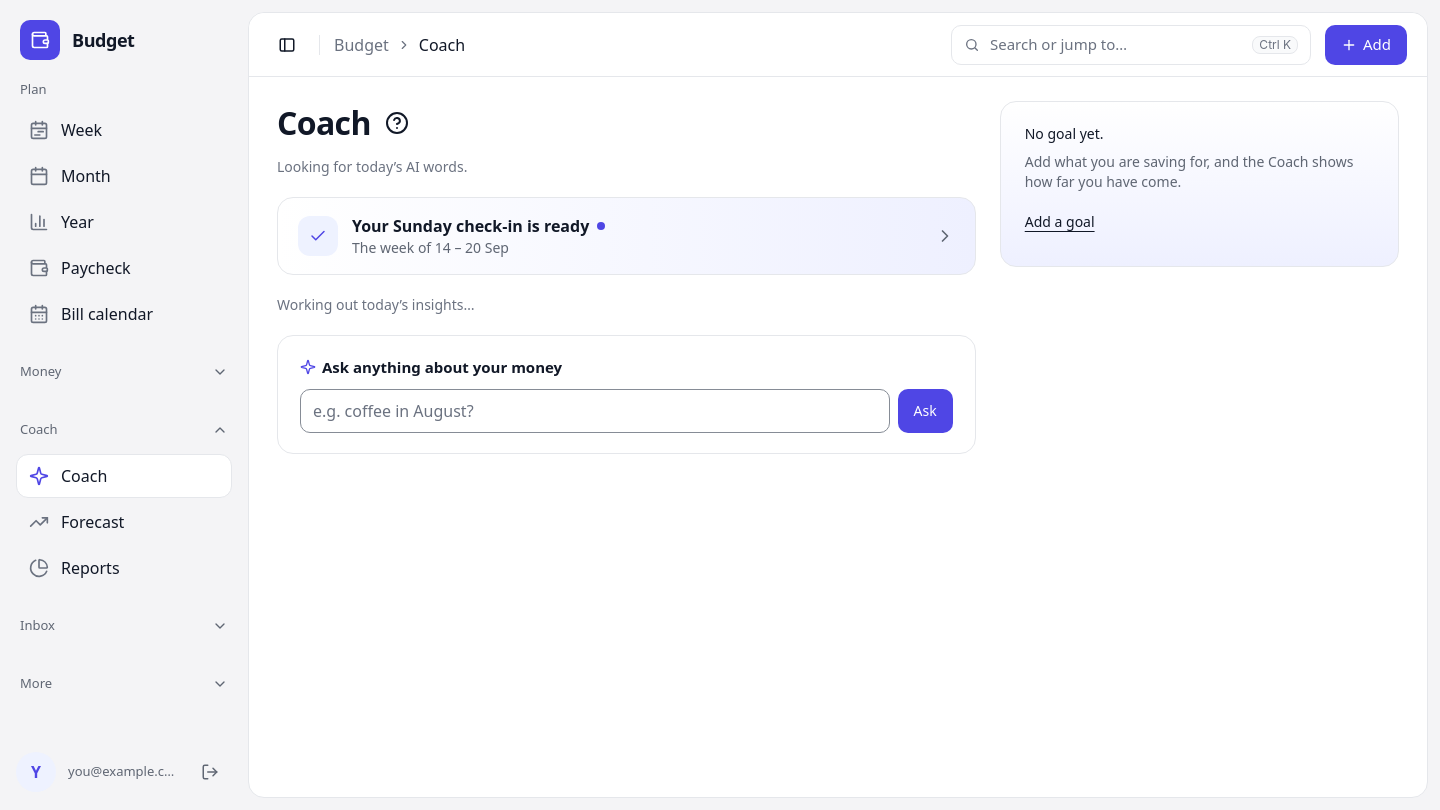
Test: the ? beside every screen’s title › on /coach opens its article in a sheet, with Show me for the whole of it
The width and height of the screenshot is (1440, 810).
Expected: the heading "Coach" is shown, [277, 103, 371, 143]
Click the button named "Help with this screen" at (397, 123), box [375, 101, 419, 145]
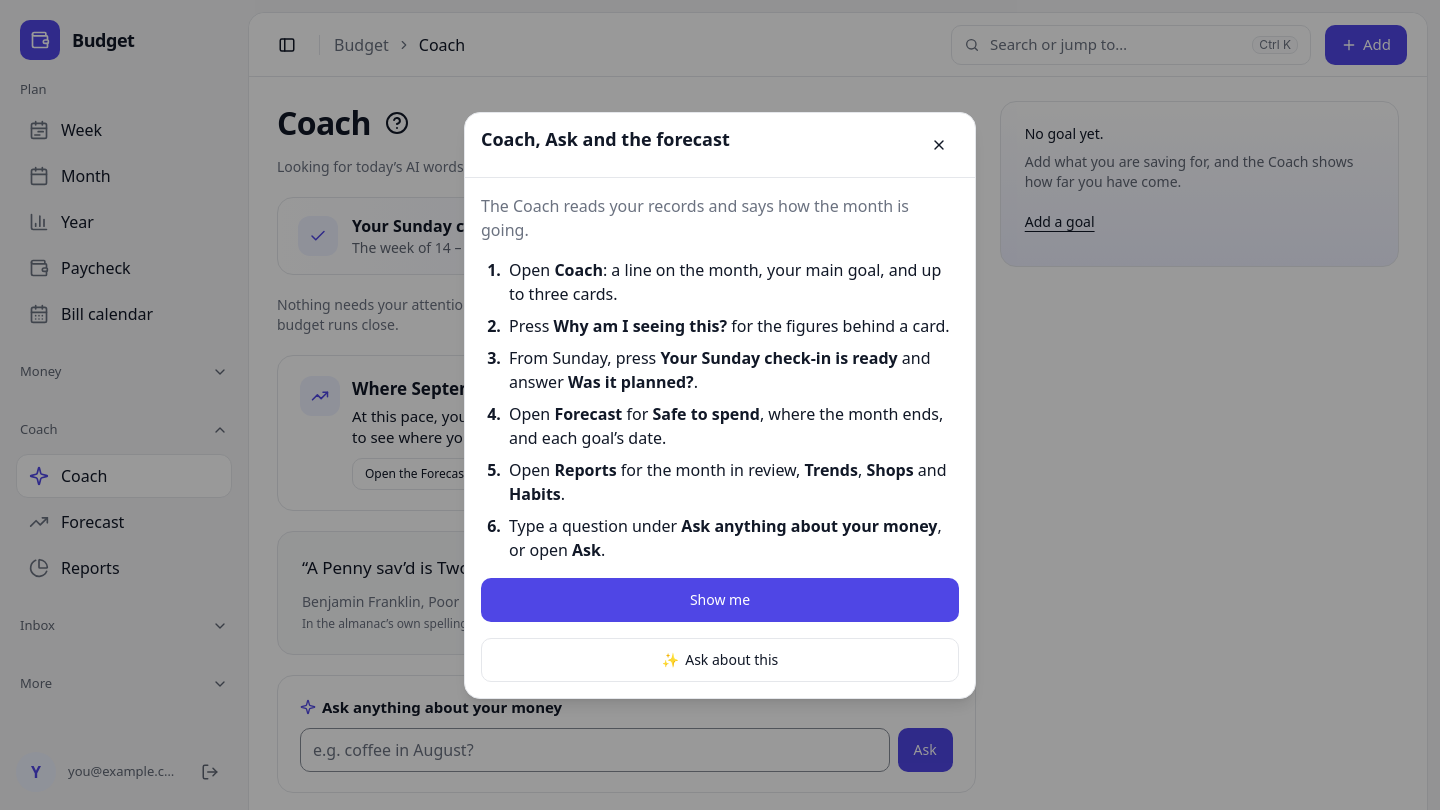
Result: the heading "Coach, Ask and the forecast" is shown at [481, 126, 730, 150]
Click the button named "Close" at (939, 144), box [919, 124, 959, 164]
(page scrolled)
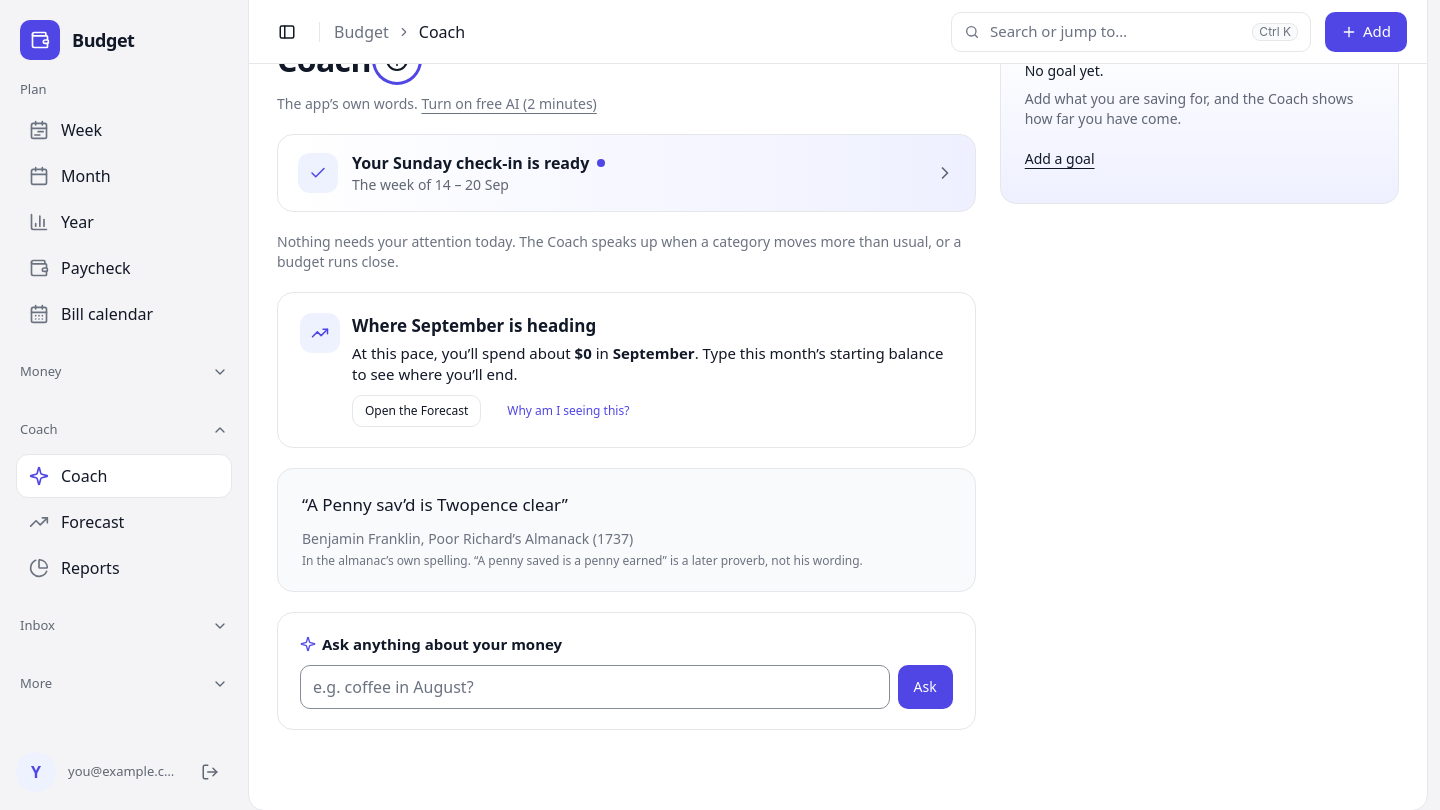
Result: the dialog is gone
